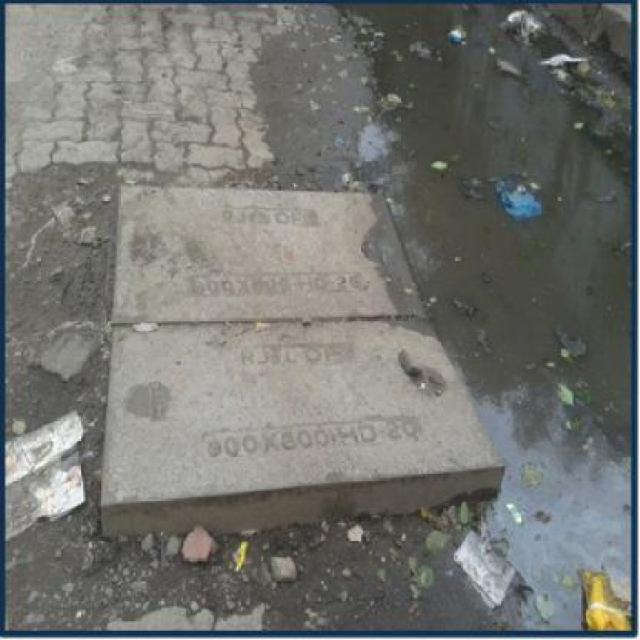Manhole: (90, 183, 512, 517)
